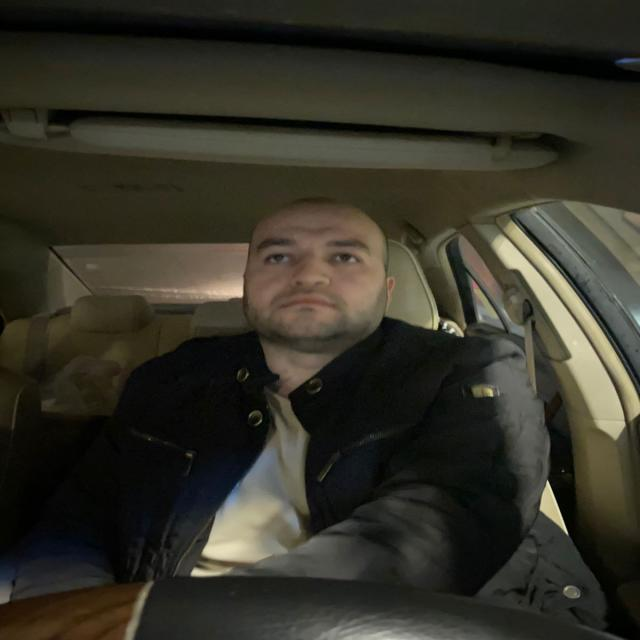person: (240, 190, 396, 362)
